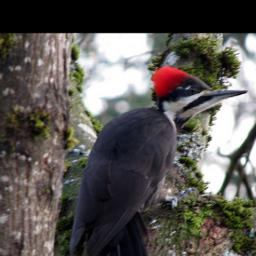Woodpecker: (61, 64, 251, 256)
